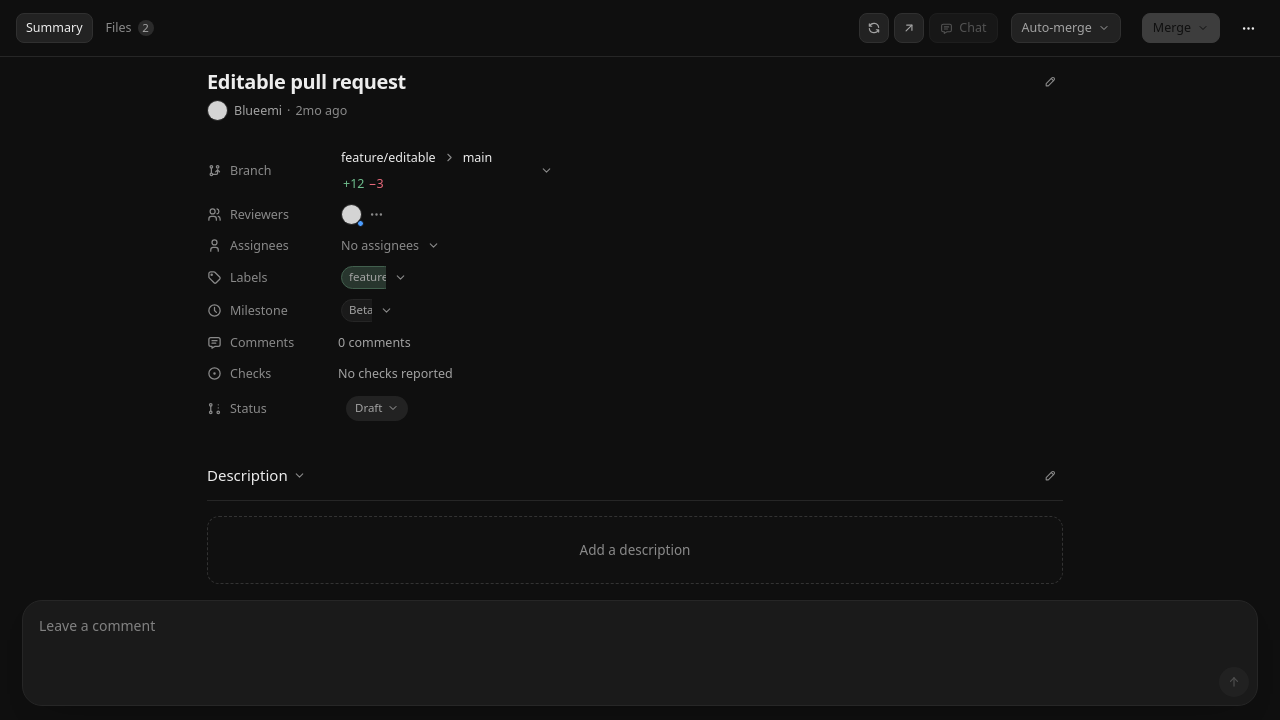
Test: PullRequestDetailPane inline editing › surfaces a failed refresh as a retryable alert without replacing the loaded detail
expect the heading "Editable pull request" is shown: met, box [207, 69, 406, 94]
Step 1. Click the button named "Refresh pull request" → (874, 28), box [859, 13, 889, 43]
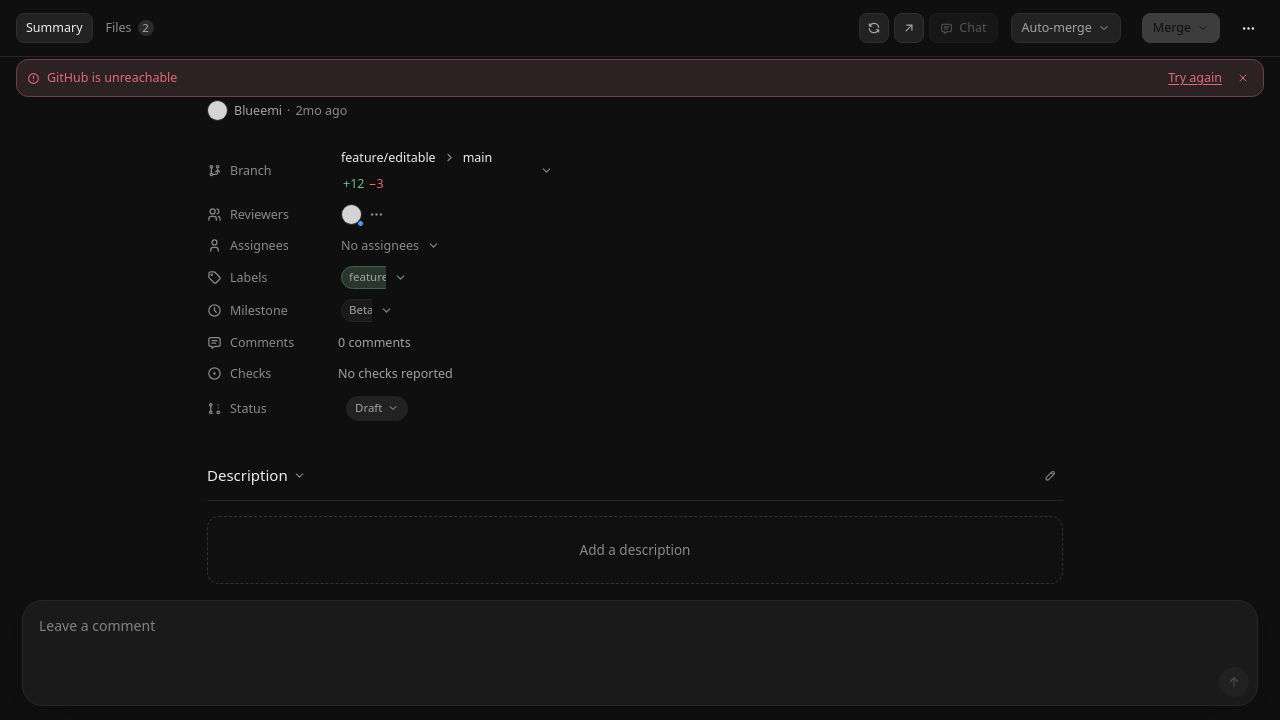
expect the heading "Editable pull request" is shown: met, box [207, 69, 406, 94]
expect the message shows "GitHub is unreachable": met, box [47, 69, 177, 86]
Step 2. Click the button "Try again" → (1195, 78), box [1164, 68, 1226, 88]
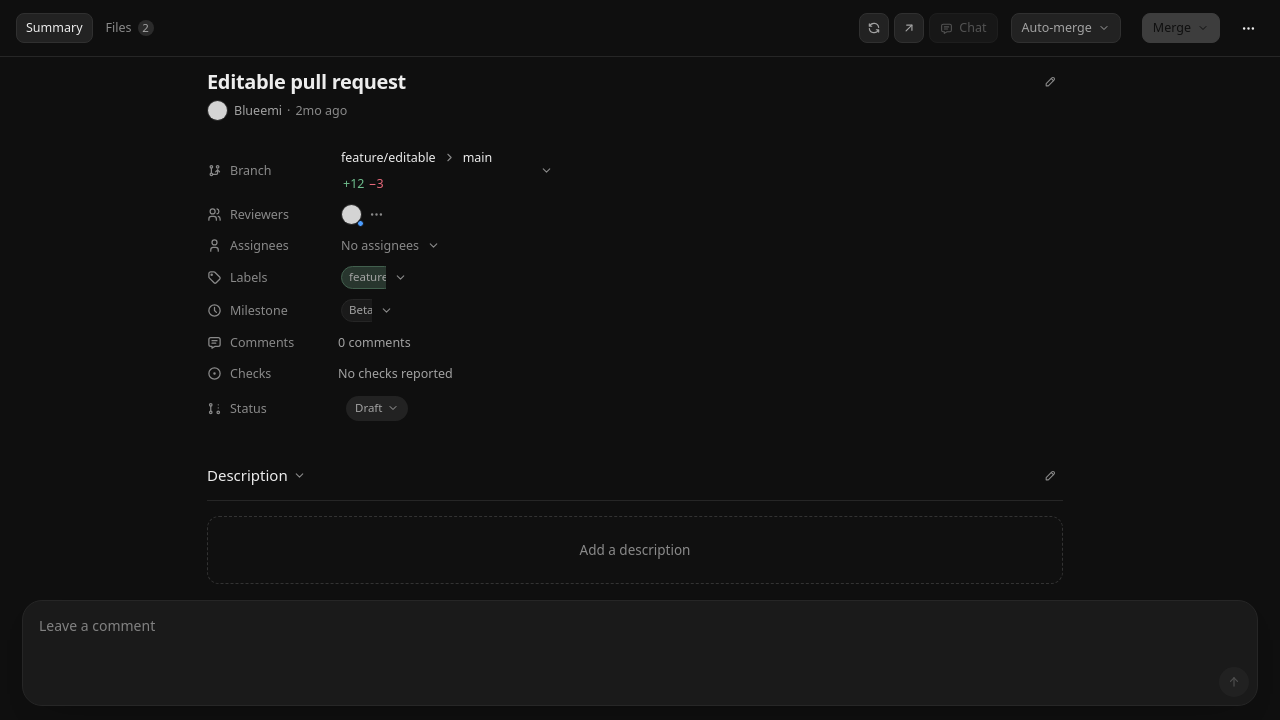
expect the heading "Editable pull request" is shown: met, box [207, 69, 406, 94]
expect the message "GitHub is unreachable Try again" is gone: met
